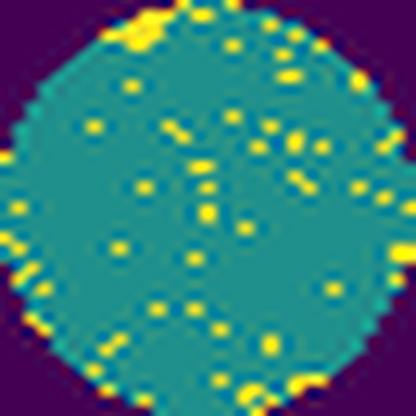Edge-Loc: (99, 0, 196, 54)
